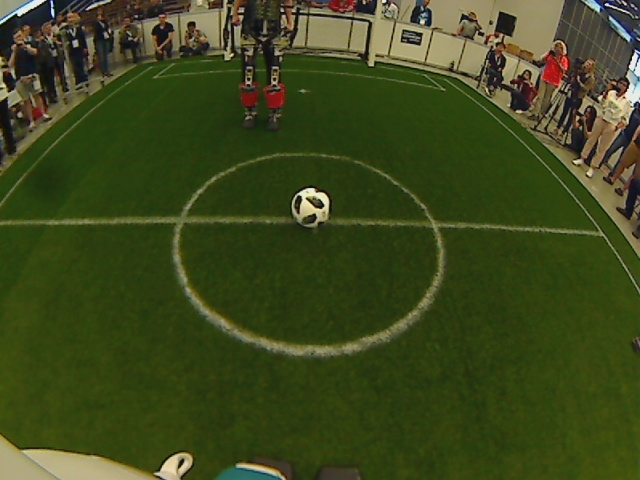ball: (289, 184, 337, 232)
